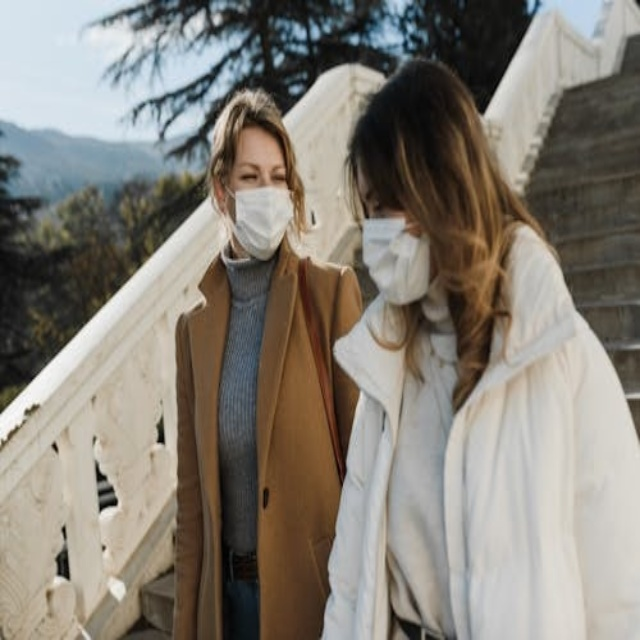Mascara: (361, 215, 433, 305), (224, 182, 294, 257)
Sin_gafas: (232, 148, 289, 182), (356, 190, 402, 220)
